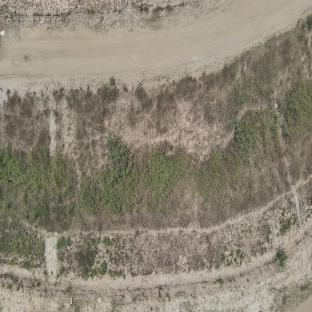toe_drain: (83, 228, 299, 292)
